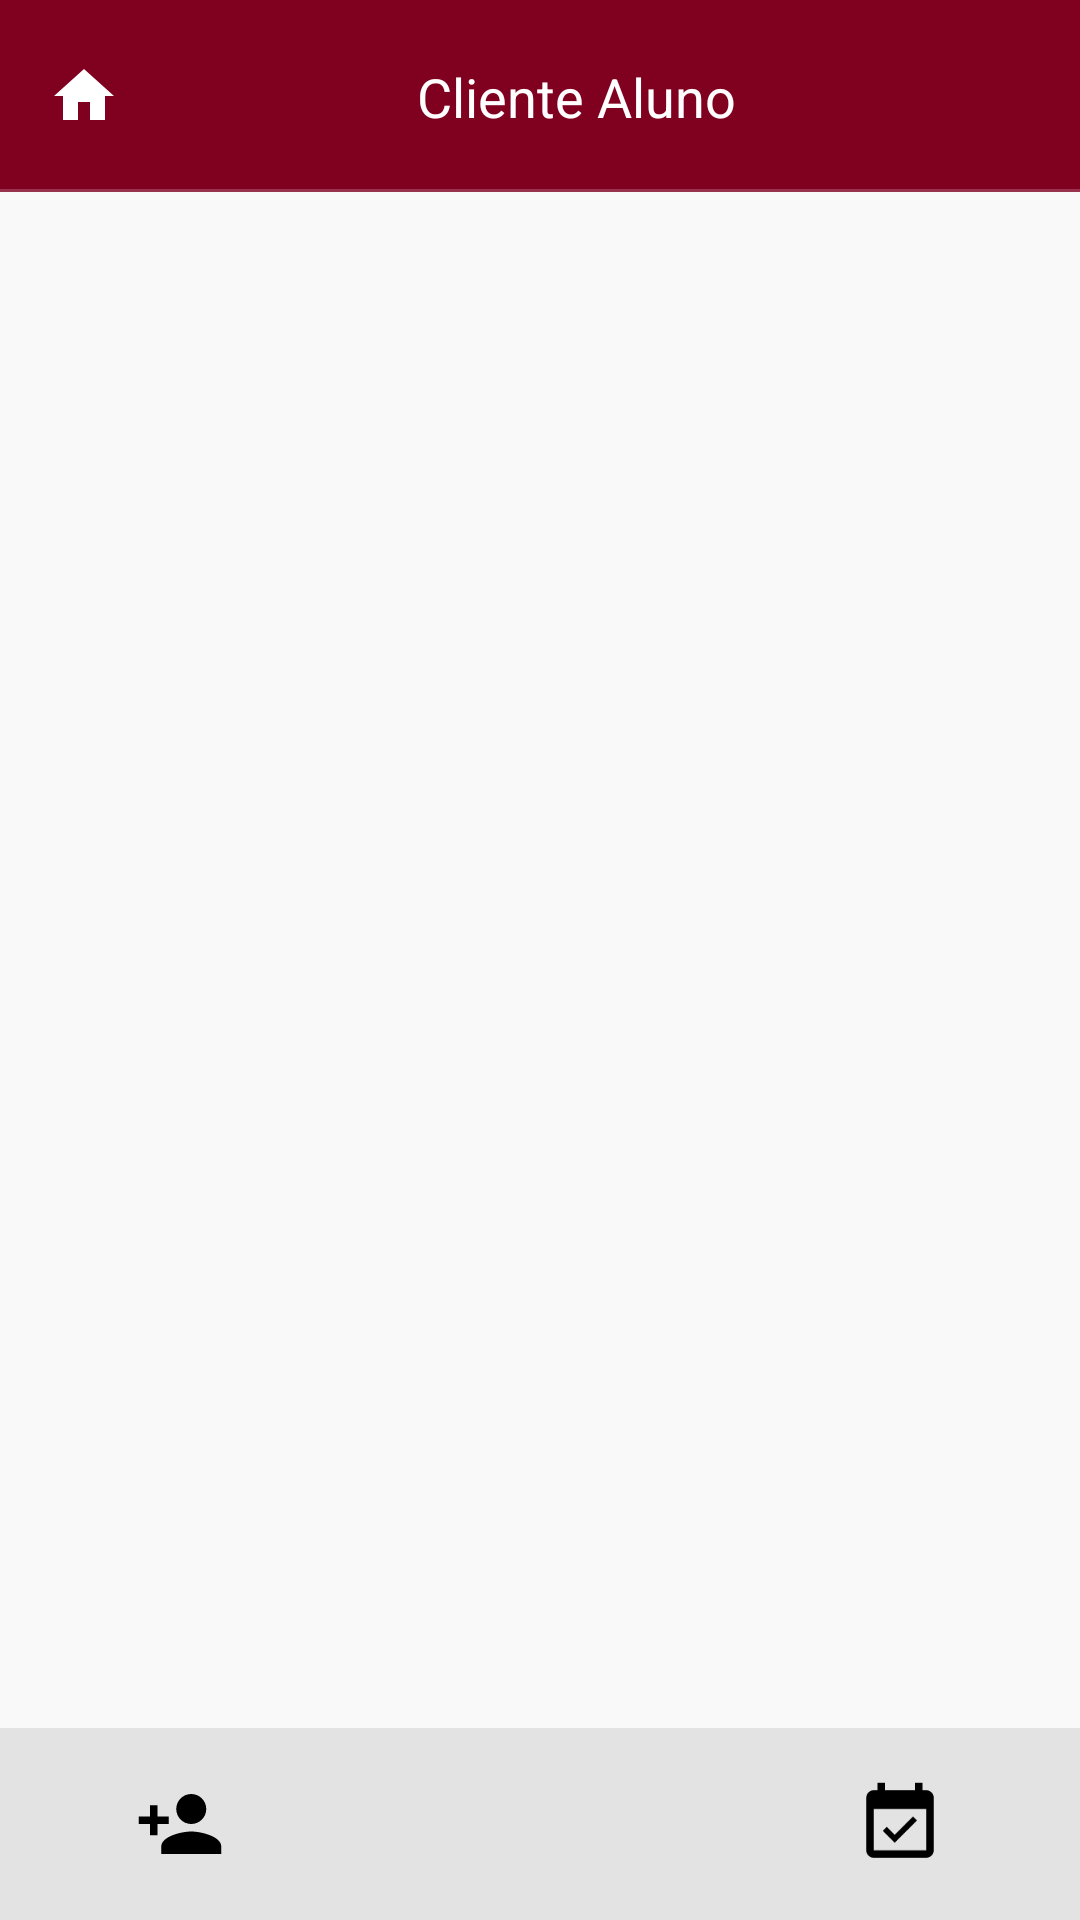

Icons on this 1080px×1920px Android screen, each with the point to tap as point (x, y):
Volar para pagína principal: point (84, 96)
